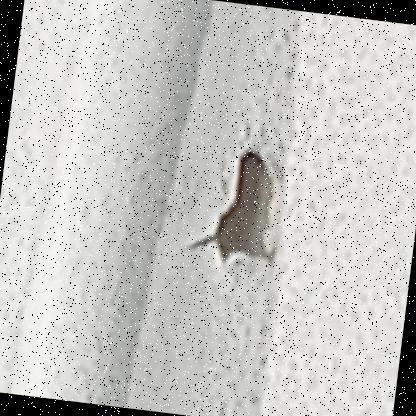Crack: (150, 101, 328, 310)
